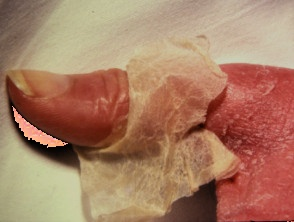SJS-TEN: (63, 33, 294, 222)
